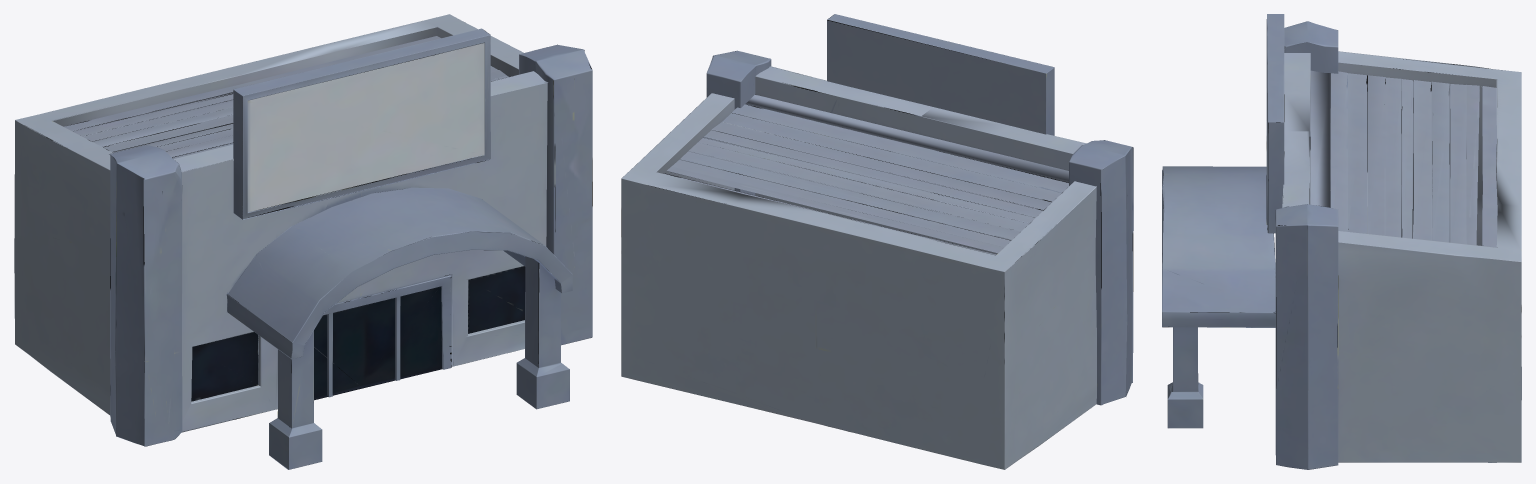
The model's file is 38-cinema.glb.
3 views of the same model, side by side, from view 1: azimuth 30°, elevation 25°; view 2: azimuth 150°, elevation 25°; view 3: azimuth 270°, elevation 25° (orthographic). The views are drawn at different scales.
Visible parts, largest first — view 1: geometry_0; view 2: geometry_0; view 3: geometry_0.
Boxes of the visible parts, x1,y1,x2,y2 form: geometry_0: (14,14,592,469); geometry_0: (621,14,1133,469); geometry_0: (1162,14,1521,469).
Bounding box in the file's own units: 0.9531 × 0.6426 × 0.7056.
1 material, 1 textured.
